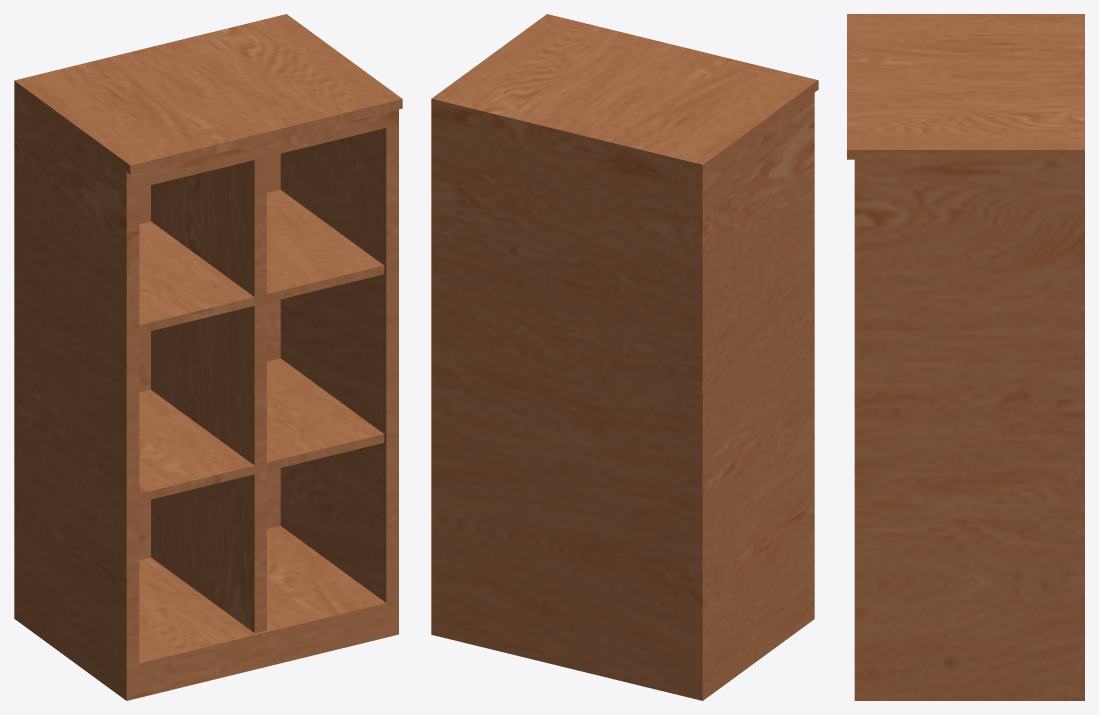
File: Closet36.fbx
3 views of the same model, side by side, from view 1: azimuth 30°, elevation 25°; view 2: azimuth 150°, elevation 25°; view 3: azimuth 270°, elevation 25° (orthographic). The views are drawn at different scales.
Parts seen in each view (by area): view 1: Closet36; view 2: Closet36; view 3: Closet36.
Boxes of the visible parts, x1,y1,x2,y2 form: Closet36: [14, 14, 402, 700]; Closet36: [431, 14, 818, 700]; Closet36: [847, 14, 1084, 700].
Bounding box in the file's own units: 62.2 × 117 × 45.95.
